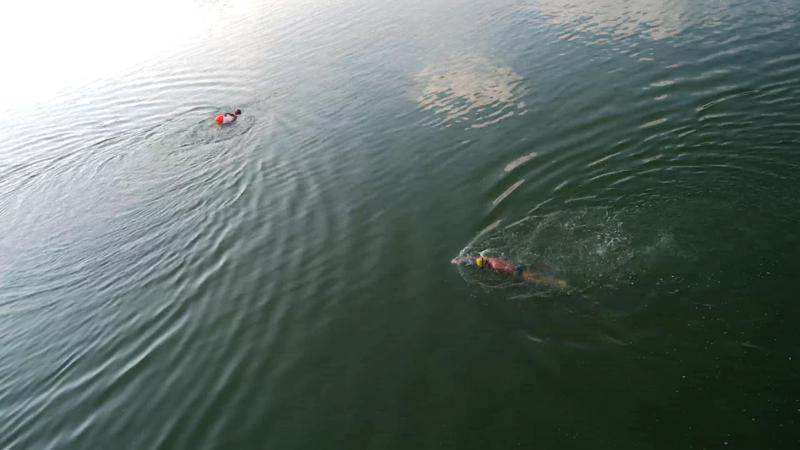swimmers: (451, 255, 566, 288)
